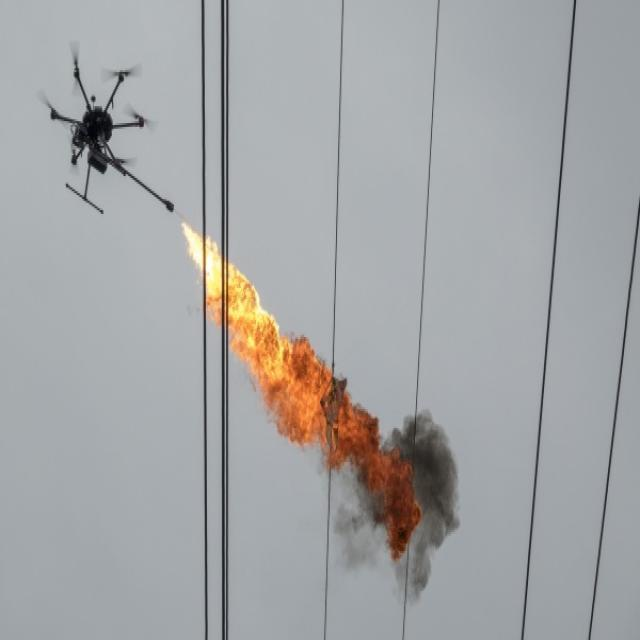drones: (23, 22, 207, 270)
